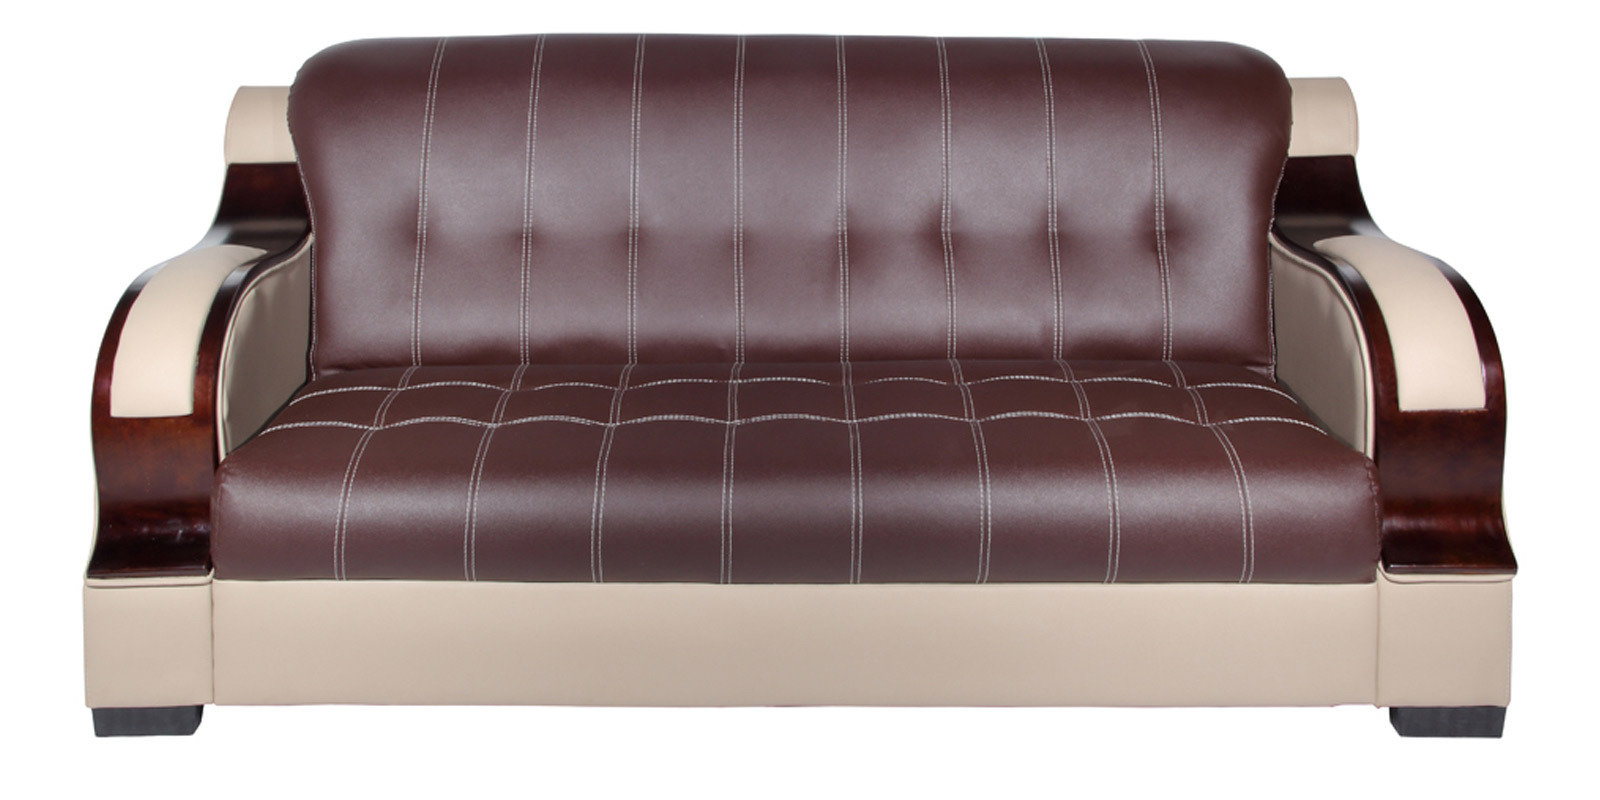Bella Three Seater Sofa in Brown Leatherette by Furniture Mind: (56, 17, 1537, 765)
